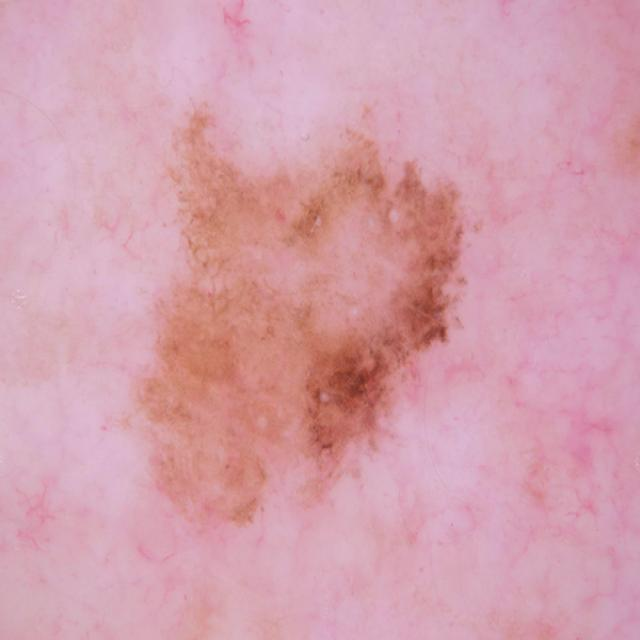Skin-Cancer Pigmented benign keratosis: (45, 4, 636, 623)
